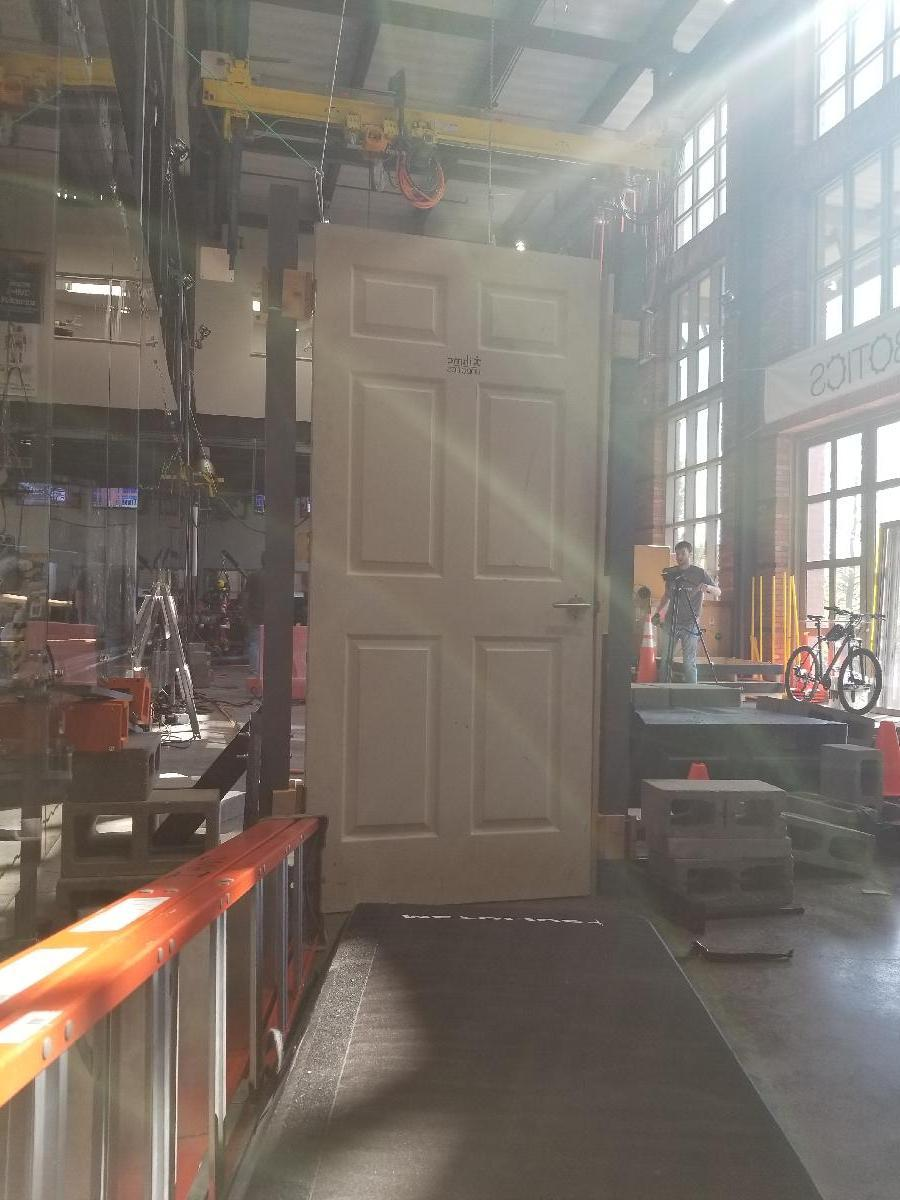door: (308, 263, 604, 909)
handle: (546, 588, 596, 623)
